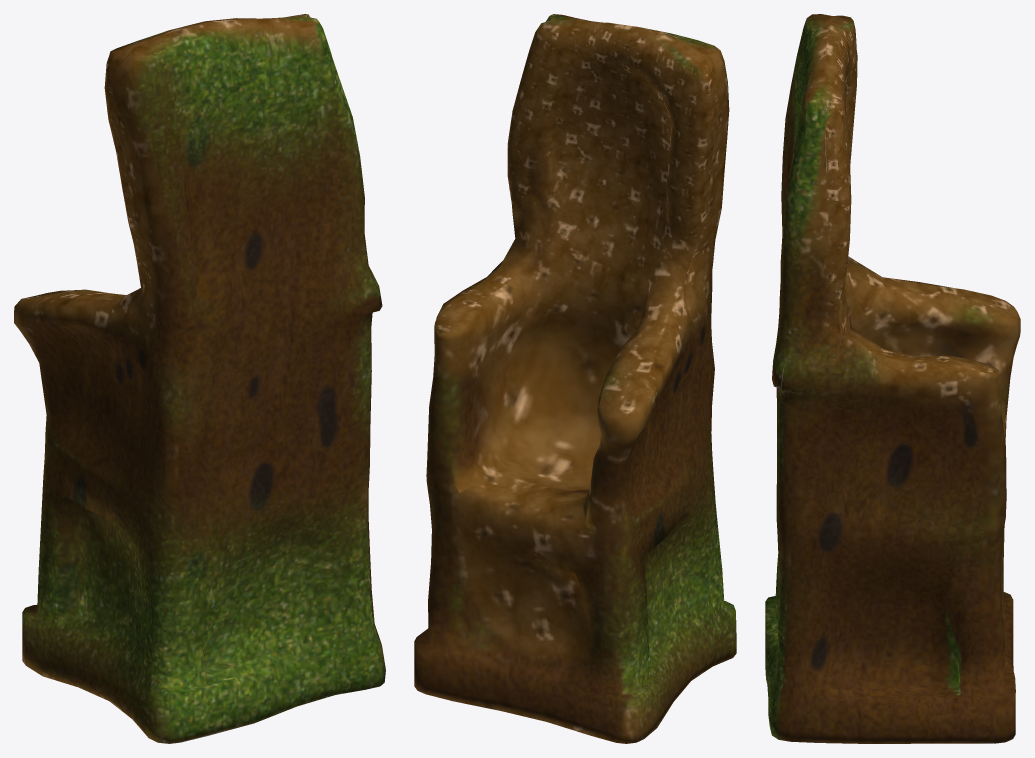
The model's file is chairguant.glb.
The picture shows the model from 3 angles, left to right: view 1: azimuth 30°, elevation 25°; view 2: azimuth 150°, elevation 25°; view 3: azimuth 270°, elevation 25°; orthographic projection. The views are drawn at different scales.
Visible parts, largest first — view 1: chair; view 2: chair; view 3: chair.
Boxes of the visible parts, <box> form: chair: <box>14,14,385,743</box>; chair: <box>414,14,736,743</box>; chair: <box>765,14,1020,743</box>.
Bounding box in the file's own units: 2.57 × 6.68 × 2.42.
1 material, 1 textured.
